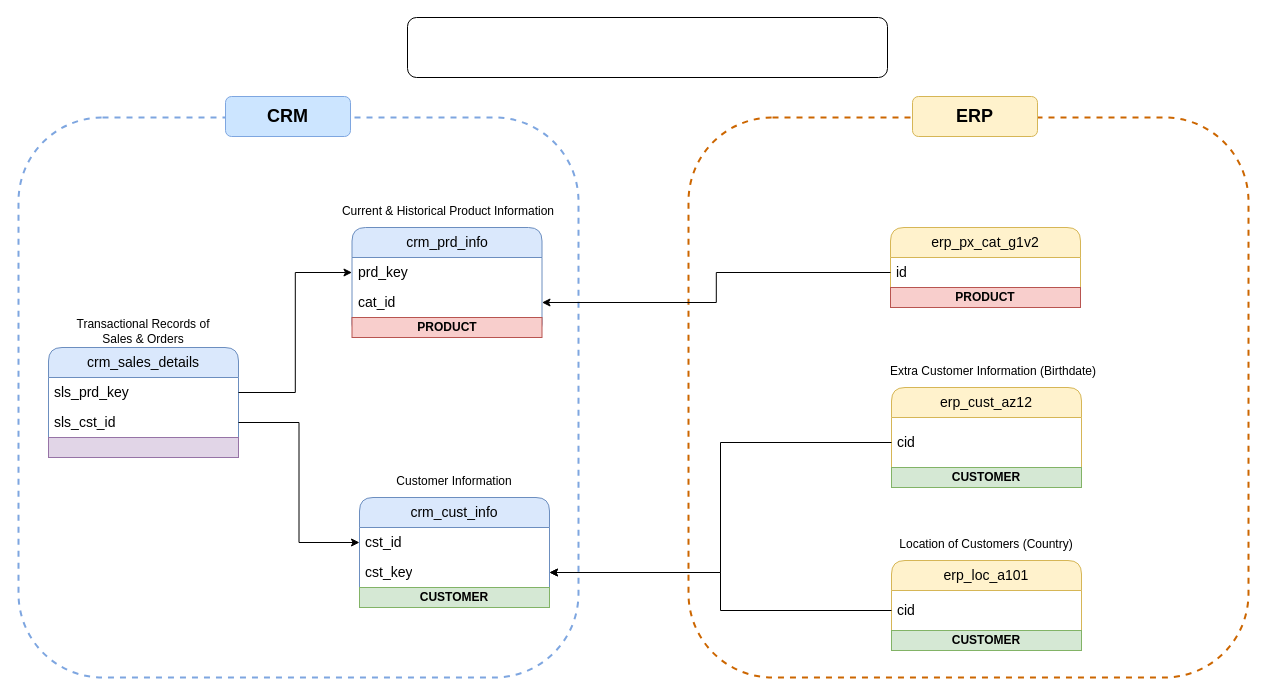
Image size: 1266x696. Some labels were removed from this diagram. Here are the shapes that lost their labels. From the top down, the centre of each, then its label:
At [647,47]: "Source Systems - Data Integration Model (Table Relations)".
At [983,211]: "Product Categories".
At [143,447]: "SALES".
